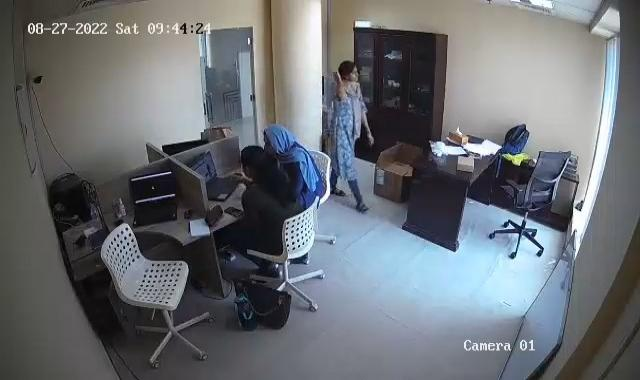no_hairnet: (239, 140, 268, 186), (259, 124, 294, 158), (337, 60, 361, 88)
